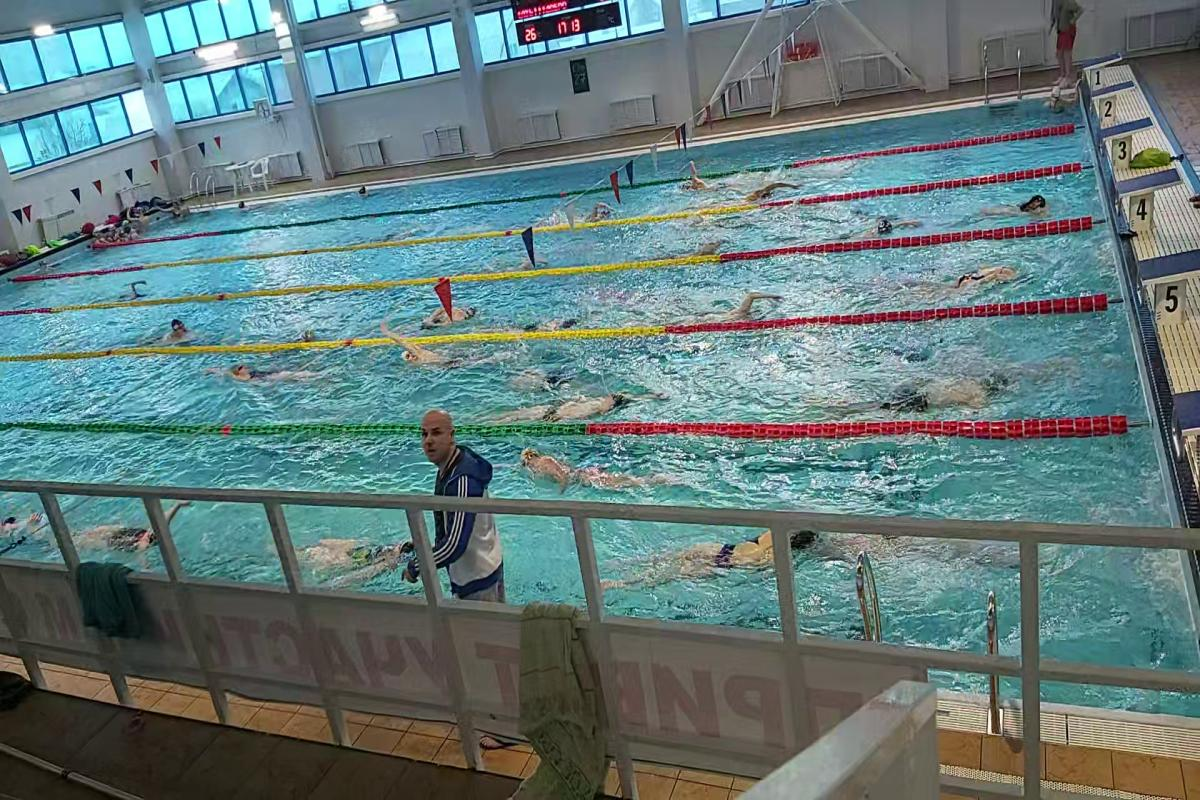swimmer: (479, 389, 696, 430), (640, 530, 773, 577), (302, 530, 412, 574), (208, 356, 346, 387), (955, 189, 1064, 227), (382, 333, 486, 371), (876, 268, 1023, 293), (85, 512, 163, 557), (687, 297, 777, 336), (142, 312, 207, 349), (408, 301, 483, 330), (848, 215, 926, 237)
